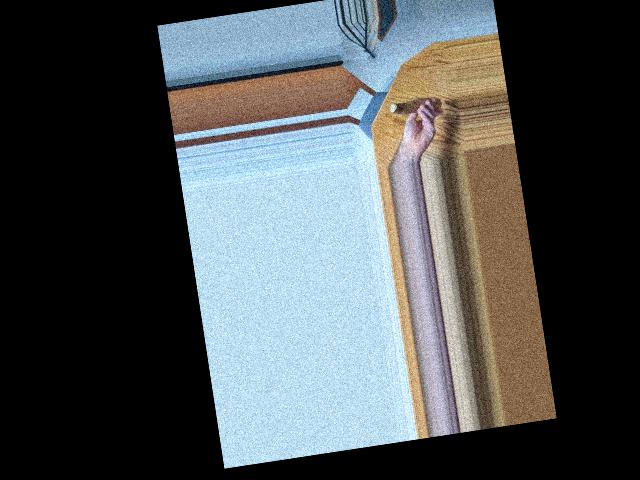sweet_potato: (391, 91, 439, 119)
